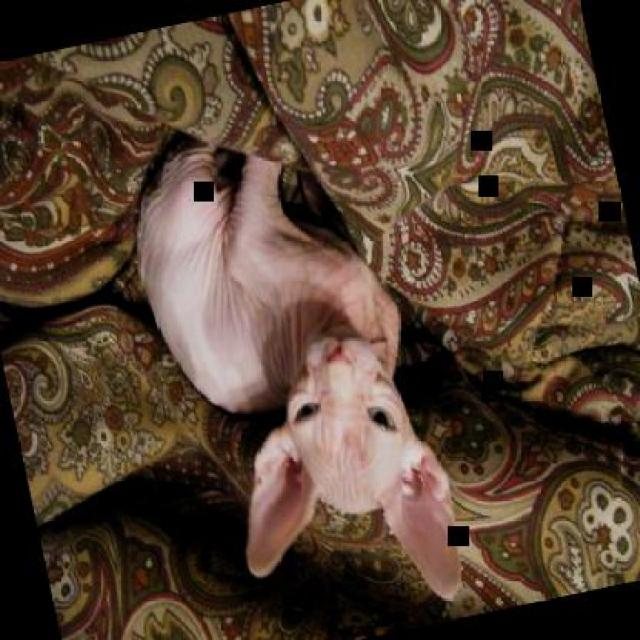cat: (116, 96, 476, 638)
